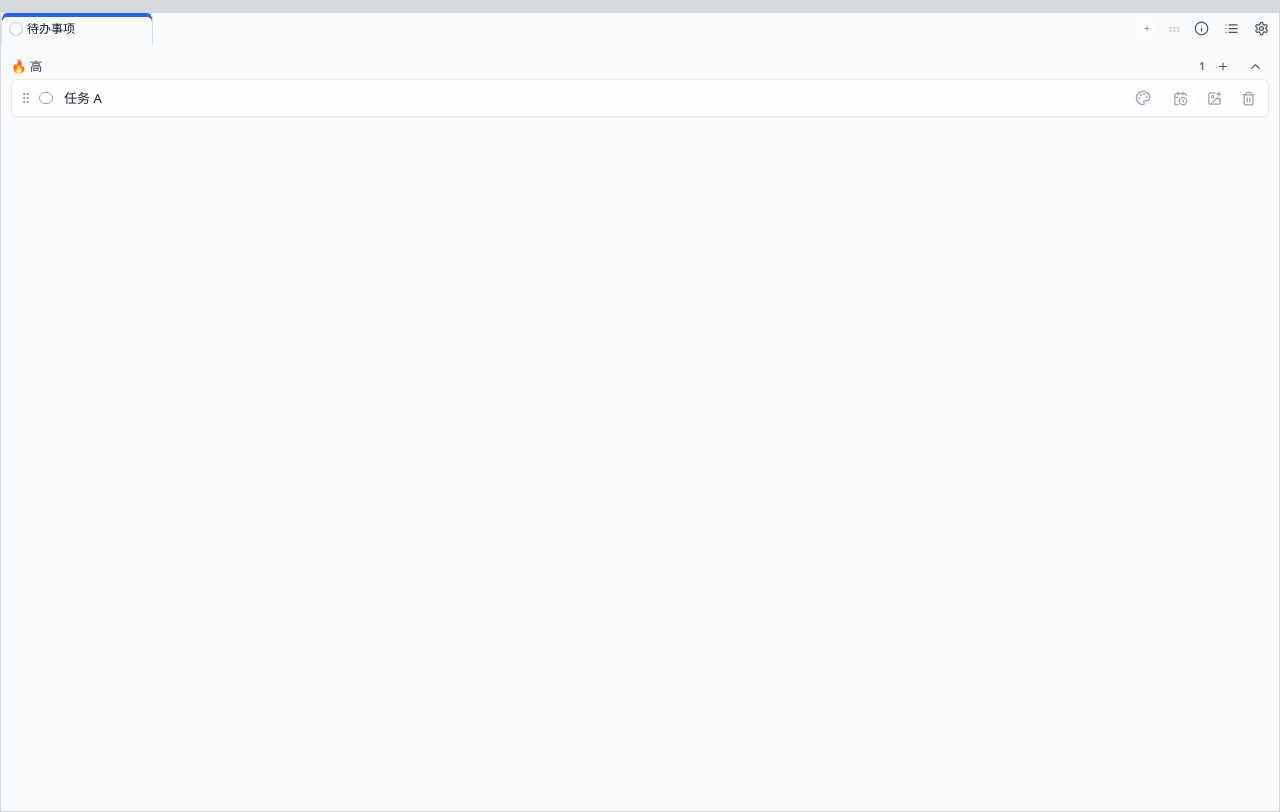
it: GitHub issues — todo controls › uses a reset action for clearing text styles
The width and height of the screenshot is (1280, 812).
Click the button titled "文字样式" at [1143, 98], box [1129, 84, 1157, 112]
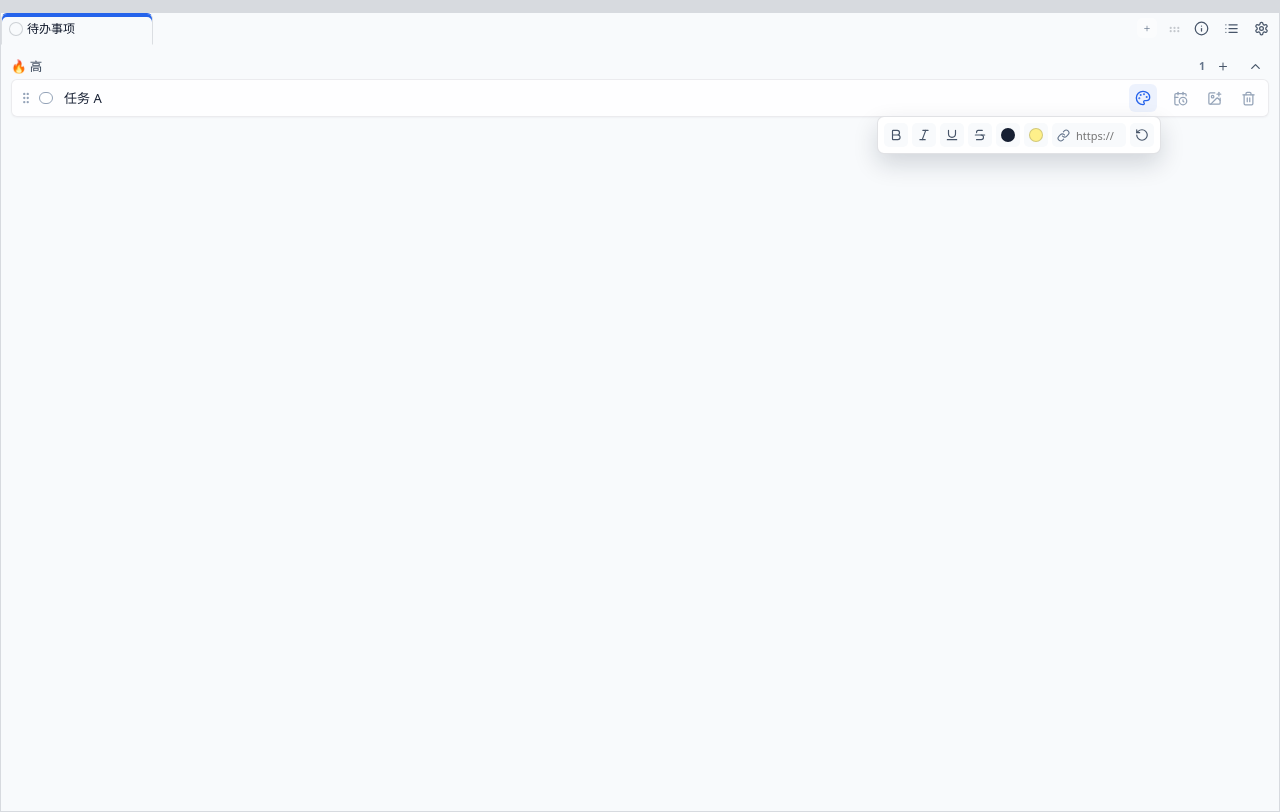
Now the button titled "重置样式" is shown, box [1130, 123, 1154, 147]
